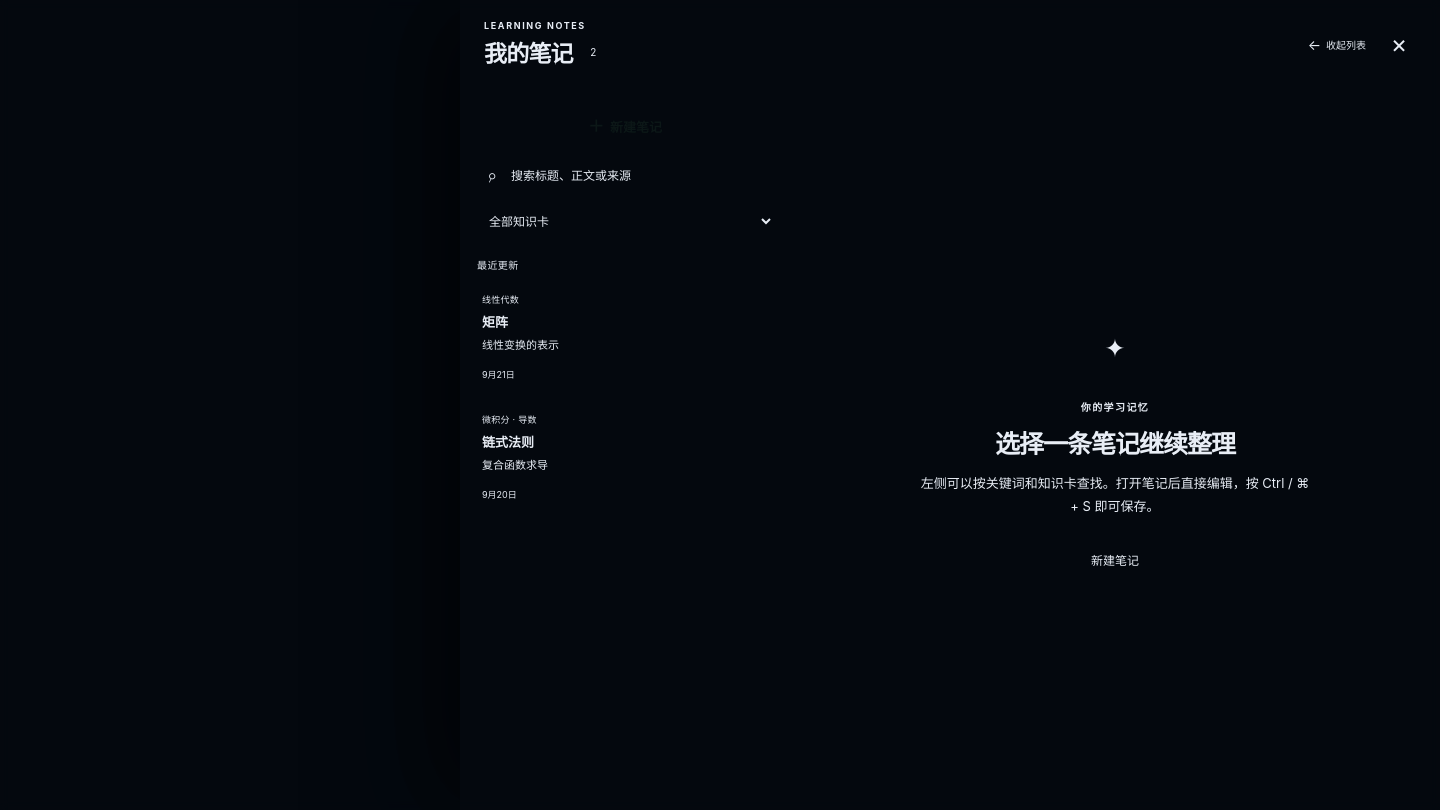
Test: NotesDrawer › searches note title, content and source and can clear the filter
Type "导数" into the search field named "搜索笔记".
click(625, 176); type("导数")  # box [476, 157, 774, 194]
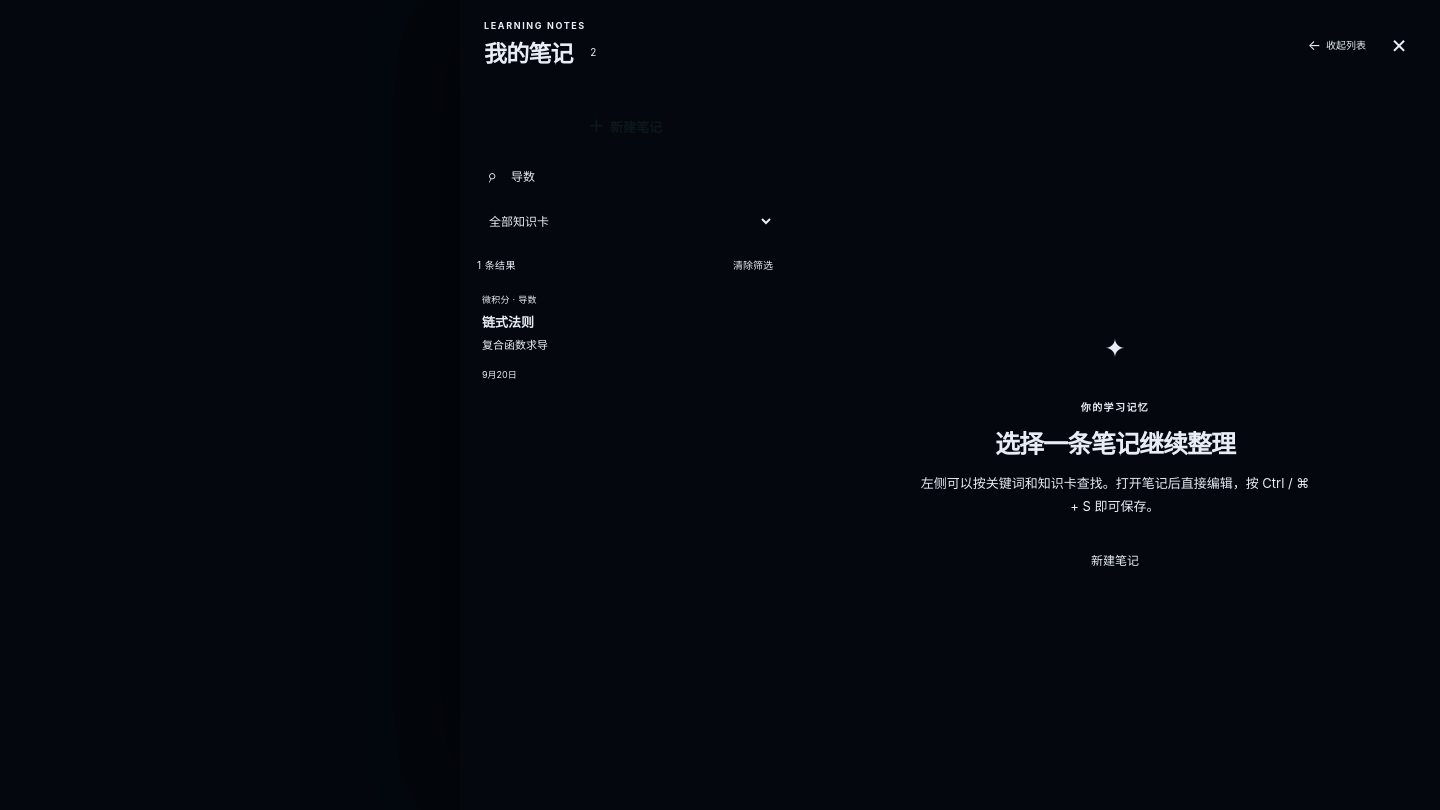
Expected: the text "链式法则" is shown, [482, 314, 534, 330]
Expected: the text "矩阵" is gone
Expected: the text "1 条结果" is shown, [477, 257, 516, 272]
Click the button "清除筛选".
click(753, 264)  # box [733, 257, 773, 272]
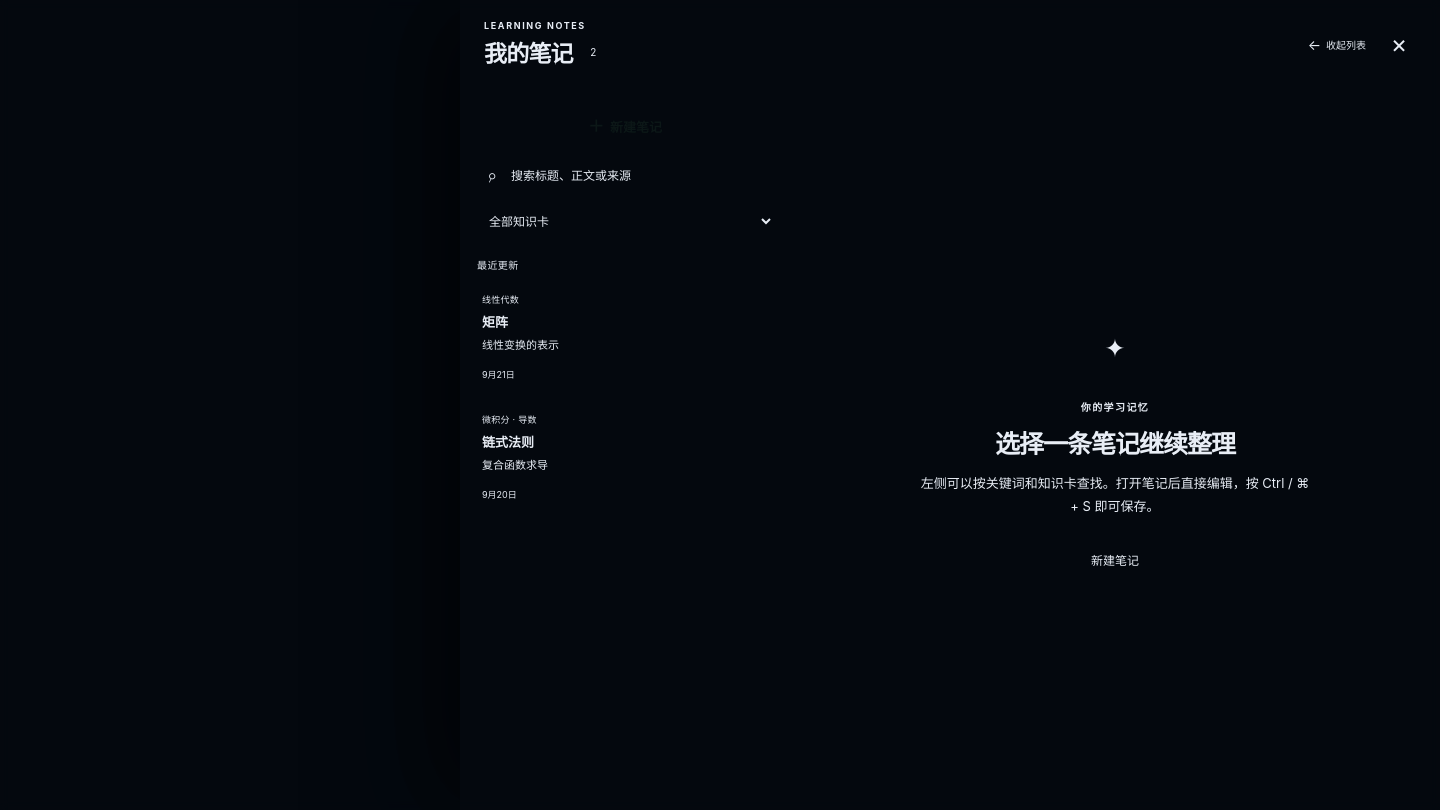
Expected: the text "矩阵" is shown, [482, 314, 508, 330]
